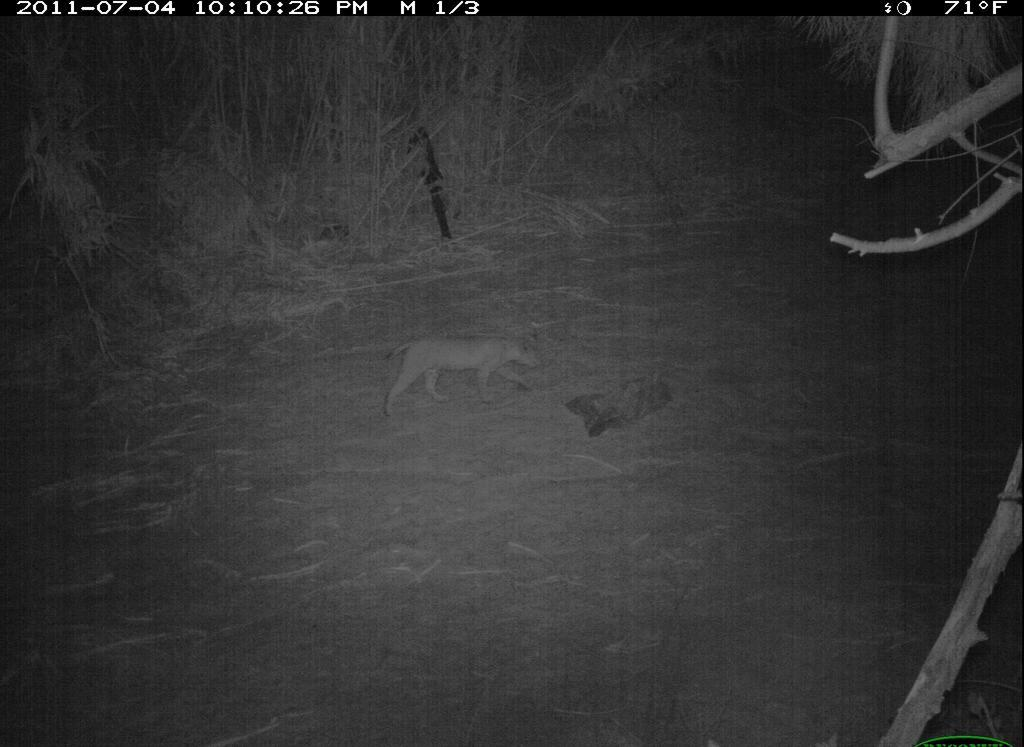bobcat: (379, 328, 546, 424)
